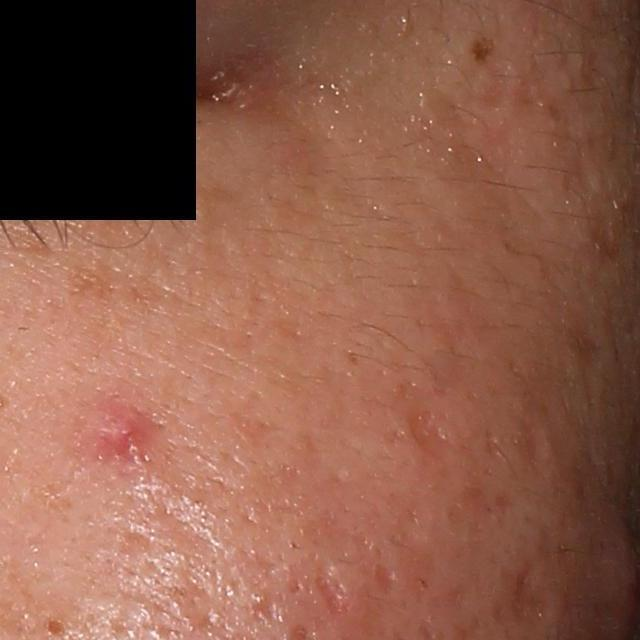atrophic_scar: (404, 406, 463, 458), (513, 409, 554, 475), (511, 556, 546, 631), (313, 557, 352, 616), (371, 559, 395, 594)
melasma: (297, 137, 344, 198), (63, 261, 118, 310)
nevus: (469, 32, 496, 65)
papule: (76, 397, 172, 474)
